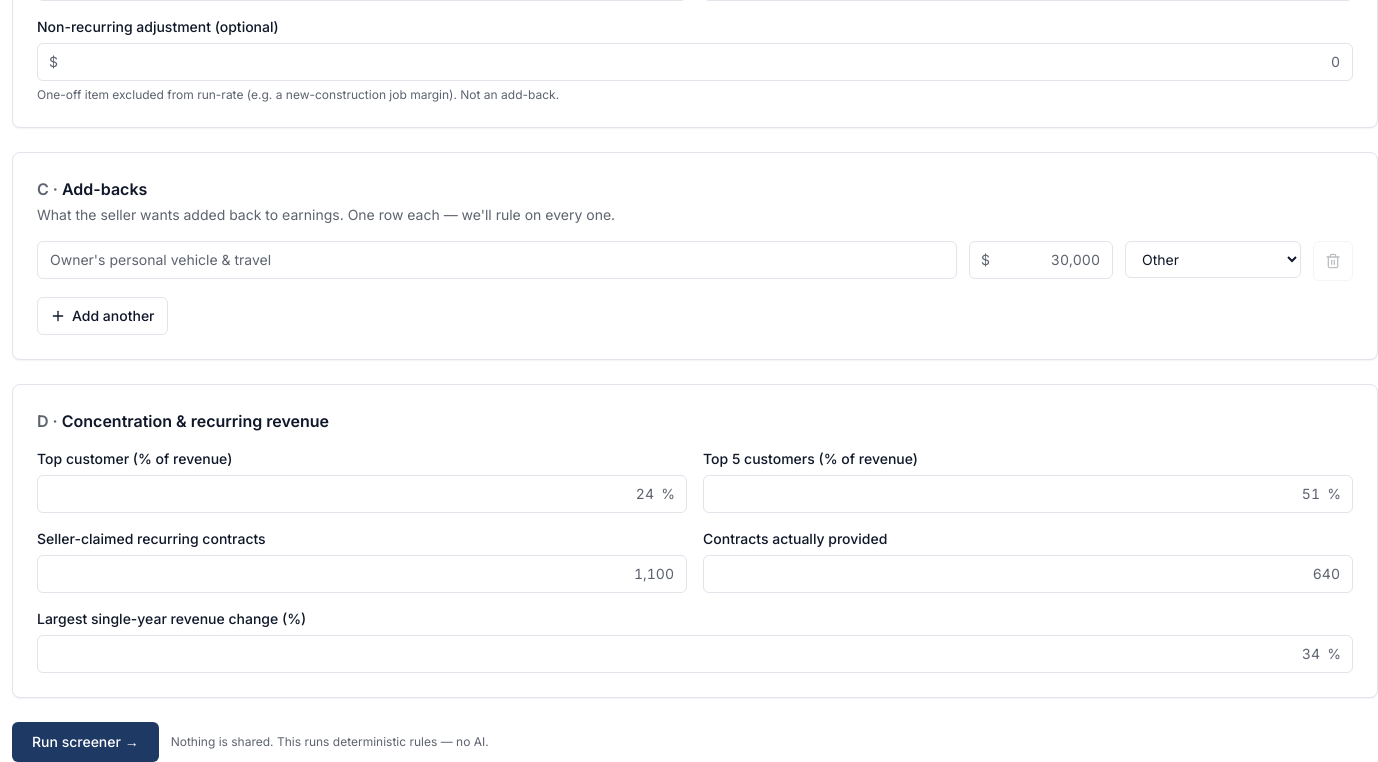
Test: NewDeal — 10-Minute NO Screener › blocks submit and shows errors on an empty required numeric
This screenshot has width=1378, height=762.
(page scrolled)
Click the button "Run screener →" at (85, 742), box x1=12 y1=722 x2=159 y2=761
(page scrolled)
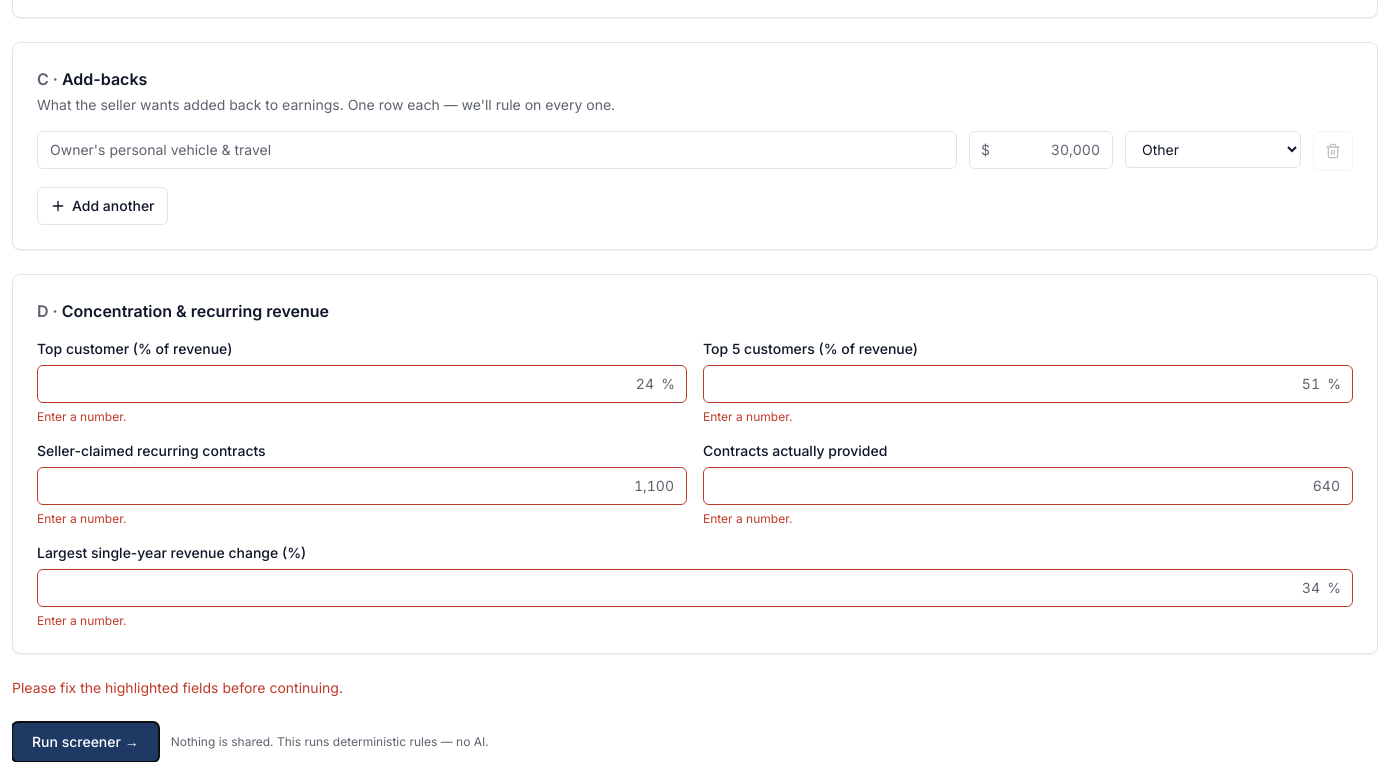
Now the text "Please fix the highlighted fields before continuing." is shown, box x1=12 y1=679 x2=343 y2=696
